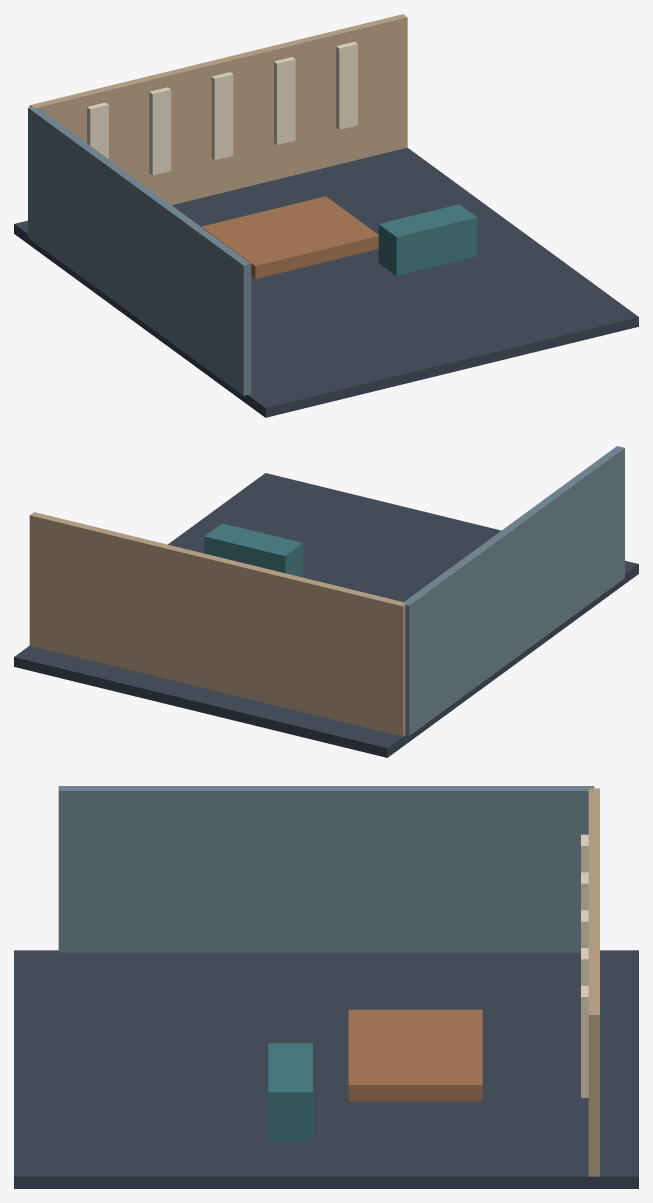
Rendered from Practice room.glb.
3 views of the same model, one above another, from view 1: azimuth 30°, elevation 25°; view 2: azimuth 150°, elevation 25°; view 3: azimuth 270°, elevation 25° (orthographic). The views are drawn at different scales.
Visible parts, largest first — view 1: Floor, Back, Left, Stage, Bench, WallPanel2, WallPanel1, WallPanel4, WallPanel3, WallPanel0; view 2: Back, Floor, Left, Bench; view 3: Floor, Left, Stage, Back, Bench, WallPanel4.
Boxes of the visible parts, bbox=[...] form: Floor: bbox=[14, 147, 638, 417]; Back: bbox=[29, 14, 407, 205]; Left: bbox=[28, 107, 251, 395]; Stage: bbox=[201, 196, 378, 278]; Bench: bbox=[378, 204, 477, 275]; WallPanel2: bbox=[211, 72, 233, 160]; WallPanel1: bbox=[149, 87, 171, 175]; WallPanel4: bbox=[336, 41, 357, 129]; WallPanel3: bbox=[274, 57, 295, 144]; WallPanel0: bbox=[87, 102, 108, 158]; Back: bbox=[29, 512, 407, 736]; Floor: bbox=[14, 473, 638, 757]; Left: bbox=[402, 446, 624, 735]; Bench: bbox=[204, 523, 303, 577]; Floor: bbox=[14, 950, 638, 1188]; Left: bbox=[58, 786, 594, 952]; Stage: bbox=[348, 1009, 482, 1101]; Back: bbox=[588, 788, 599, 1176]; Bench: bbox=[268, 1043, 312, 1140]; WallPanel4: bbox=[581, 985, 588, 1097].
Bounding box in the file's own units: 12.12 × 4.3 × 14.
